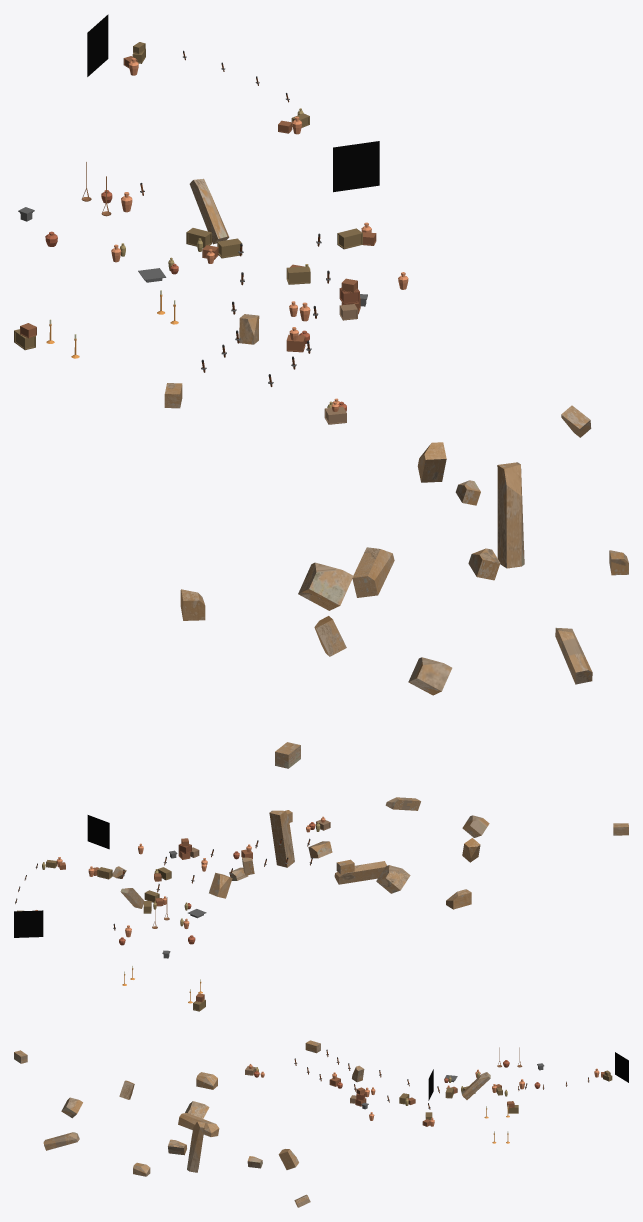
File: colera2finalObjectsv3.glb
The picture shows the model from 3 angles, top to bottom: view 1: azimuth 30°, elevation 25°; view 2: azimuth 150°, elevation 25°; view 3: azimuth 270°, elevation 25°; orthographic projection. The views are drawn at different scales.
Visible parts, largest first — view 1: Cube.181; view 2: Cube.181; view 3: Cube.181.
Boxes of the visible parts, x1,y1,x2,y2 form: Cube.181: (14,14,628,768); Cube.181: (14,797,628,1011); Cube.181: (14,1040,628,1207).
Size of the model in its own units: 228 by 85.89 by 406.
110 materials, 1 textured.
